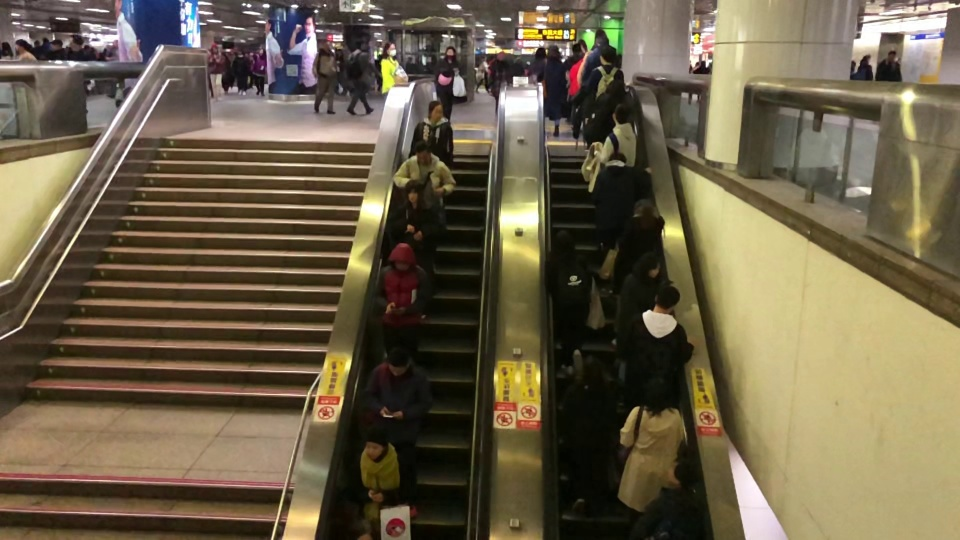person_head: (360, 422, 388, 459), (665, 456, 696, 489), (640, 376, 669, 408), (383, 347, 412, 377), (388, 242, 416, 270), (652, 286, 680, 314), (580, 354, 604, 382), (551, 229, 576, 253), (638, 250, 662, 275), (404, 178, 424, 203), (605, 79, 629, 99), (633, 197, 654, 219), (611, 102, 631, 125), (414, 138, 431, 162), (597, 47, 616, 66), (428, 98, 443, 121), (608, 151, 627, 165), (382, 40, 397, 57), (69, 35, 83, 51), (547, 44, 560, 60), (444, 45, 457, 60), (533, 46, 546, 61), (594, 36, 610, 47), (14, 39, 26, 53), (887, 48, 896, 63), (50, 38, 62, 49), (351, 38, 363, 49), (496, 50, 507, 61), (1, 41, 11, 50), (321, 38, 330, 48), (571, 43, 580, 53), (258, 46, 266, 57), (479, 53, 487, 62), (859, 56, 869, 63), (699, 59, 707, 67), (850, 59, 856, 69), (211, 44, 217, 52), (113, 38, 118, 47), (237, 48, 243, 55)
person_vbox: (364, 347, 433, 523), (617, 286, 699, 413), (615, 376, 689, 515), (392, 137, 457, 273), (609, 197, 666, 348), (614, 250, 665, 418), (343, 421, 414, 535), (386, 178, 442, 321), (562, 355, 610, 520), (371, 242, 433, 362), (547, 229, 594, 379), (631, 456, 697, 540), (594, 152, 651, 248), (409, 98, 454, 172), (583, 78, 629, 142), (596, 102, 636, 167), (345, 38, 378, 116), (543, 44, 568, 137), (310, 36, 337, 114), (380, 40, 409, 111), (434, 45, 461, 121), (586, 47, 624, 101), (582, 36, 617, 88), (490, 48, 511, 116), (104, 38, 123, 99), (208, 43, 226, 103), (232, 47, 250, 97), (875, 49, 902, 82), (251, 47, 267, 96), (692, 59, 709, 103), (529, 46, 547, 85), (849, 56, 874, 80), (474, 53, 488, 94), (65, 36, 85, 63), (14, 38, 36, 61), (49, 39, 64, 59), (0, 40, 13, 59)
